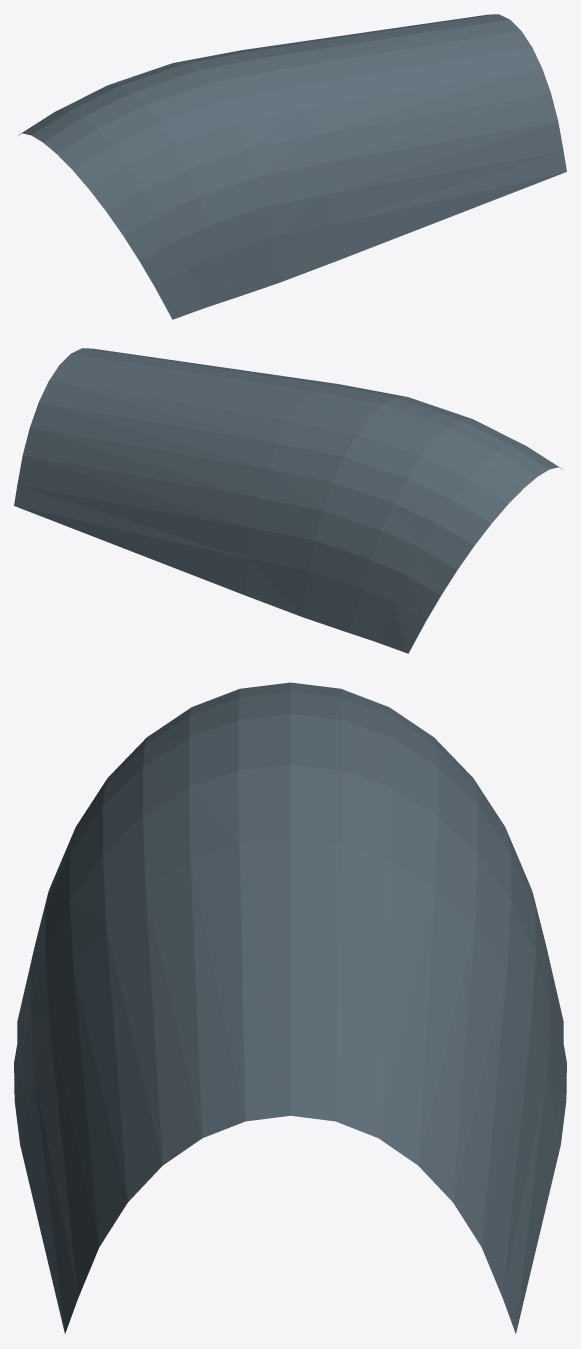
The model's file is gripen.glass.glb.
3 renders of one model, top to bottom at view 1: azimuth 30°, elevation 25°; view 2: azimuth 150°, elevation 25°; view 3: azimuth 270°, elevation 25°, orthographic. The views are drawn at different scales.
Visible parts, largest first — view 1: glass; view 2: glass; view 3: glass.
Boxes of the visible parts, left/top/right/bottom form: glass: left=18, top=14, right=566, bottom=319; glass: left=14, top=348, right=562, bottom=653; glass: left=14, top=682, right=566, bottom=1333.
Size of the model in its own units: 1.55 by 0.5586 by 0.8059.
